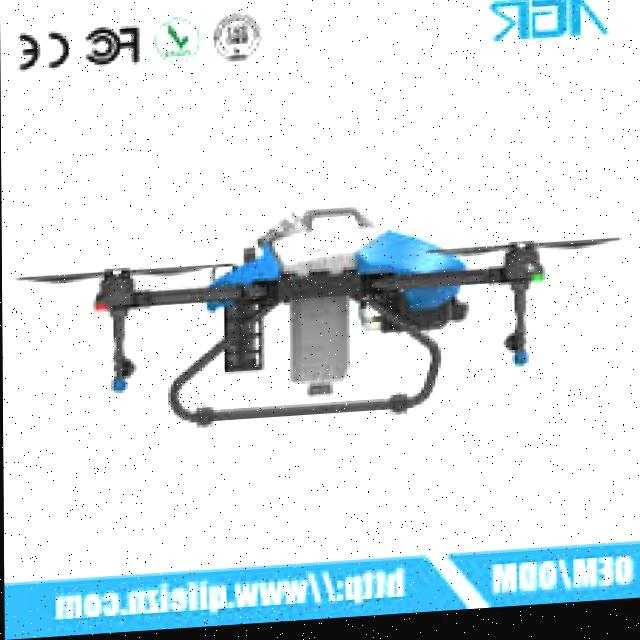drone: (26, 176, 608, 463)
